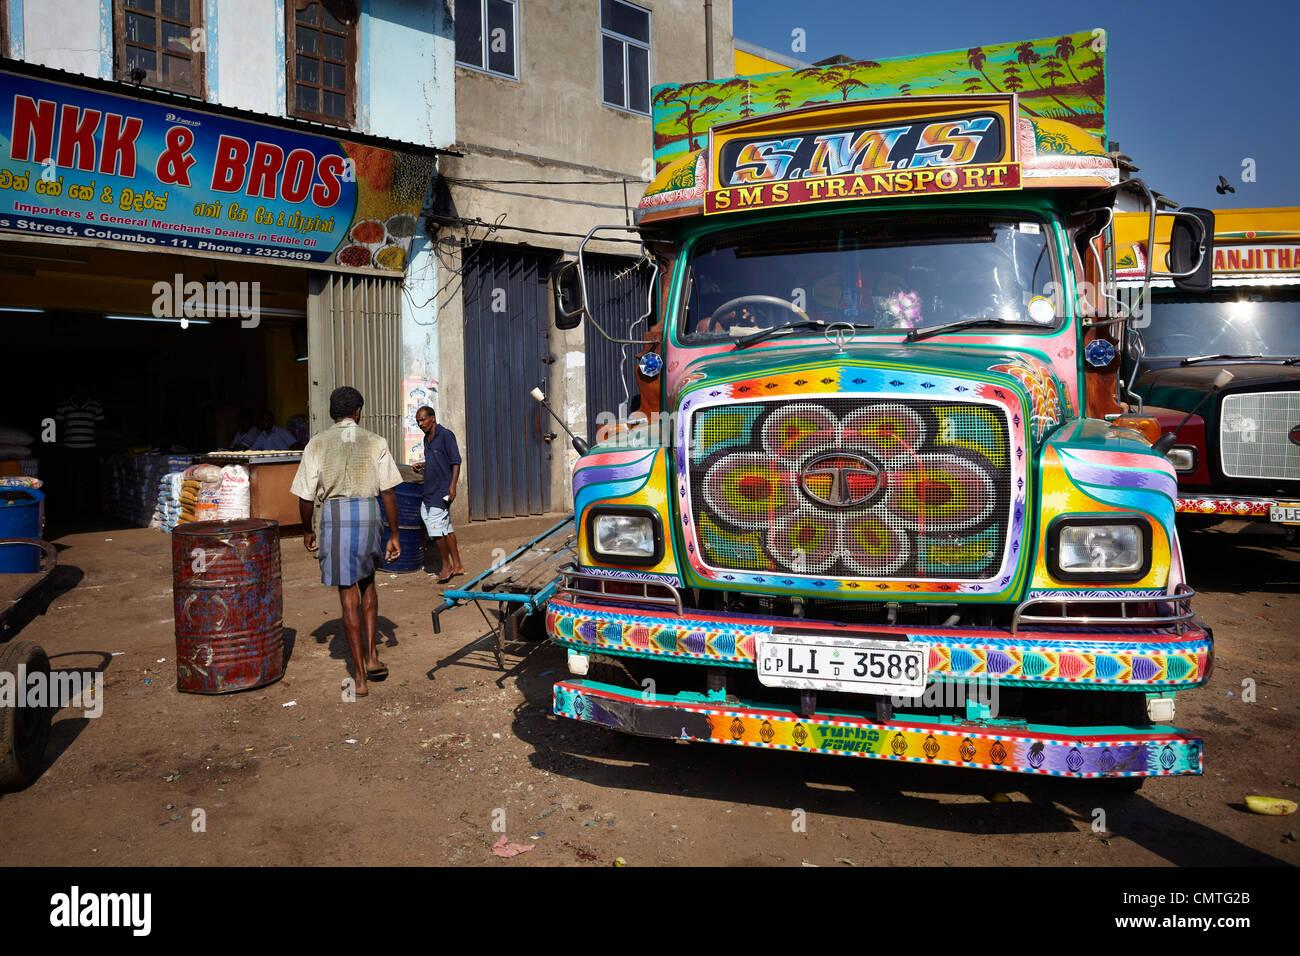truck: (543, 27, 1210, 777), (1113, 208, 1300, 523)
